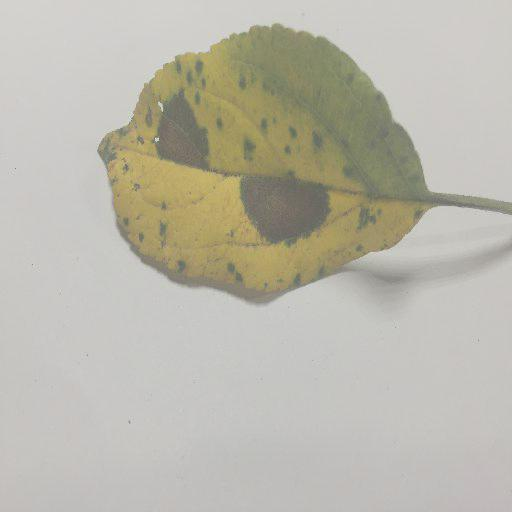Brown_Spot: (243, 181, 320, 234), (161, 112, 208, 168)
